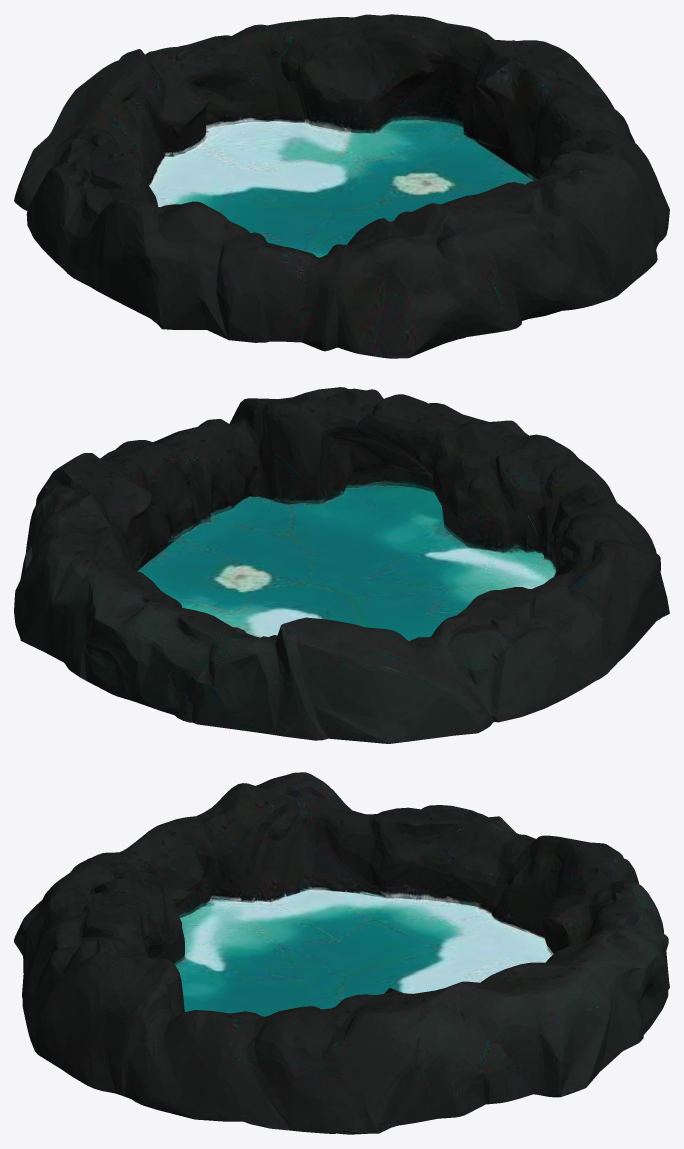
Rendered from ocean.glb.
3 renders of one model, top to bottom at view 1: azimuth 30°, elevation 25°; view 2: azimuth 150°, elevation 25°; view 3: azimuth 270°, elevation 25°, orthographic. The views are drawn at different scales.
Parts seen in each view (by area): view 1: GLTF; view 2: GLTF; view 3: GLTF.
Part boxes in pixels (x1,y1,x2,y2): GLTF: (14, 14, 669, 358); GLTF: (14, 387, 669, 743); GLTF: (14, 772, 669, 1134).
Bounding box in the file's own units: 0.9998 × 0.174 × 0.9951.
1 material, 1 textured.
